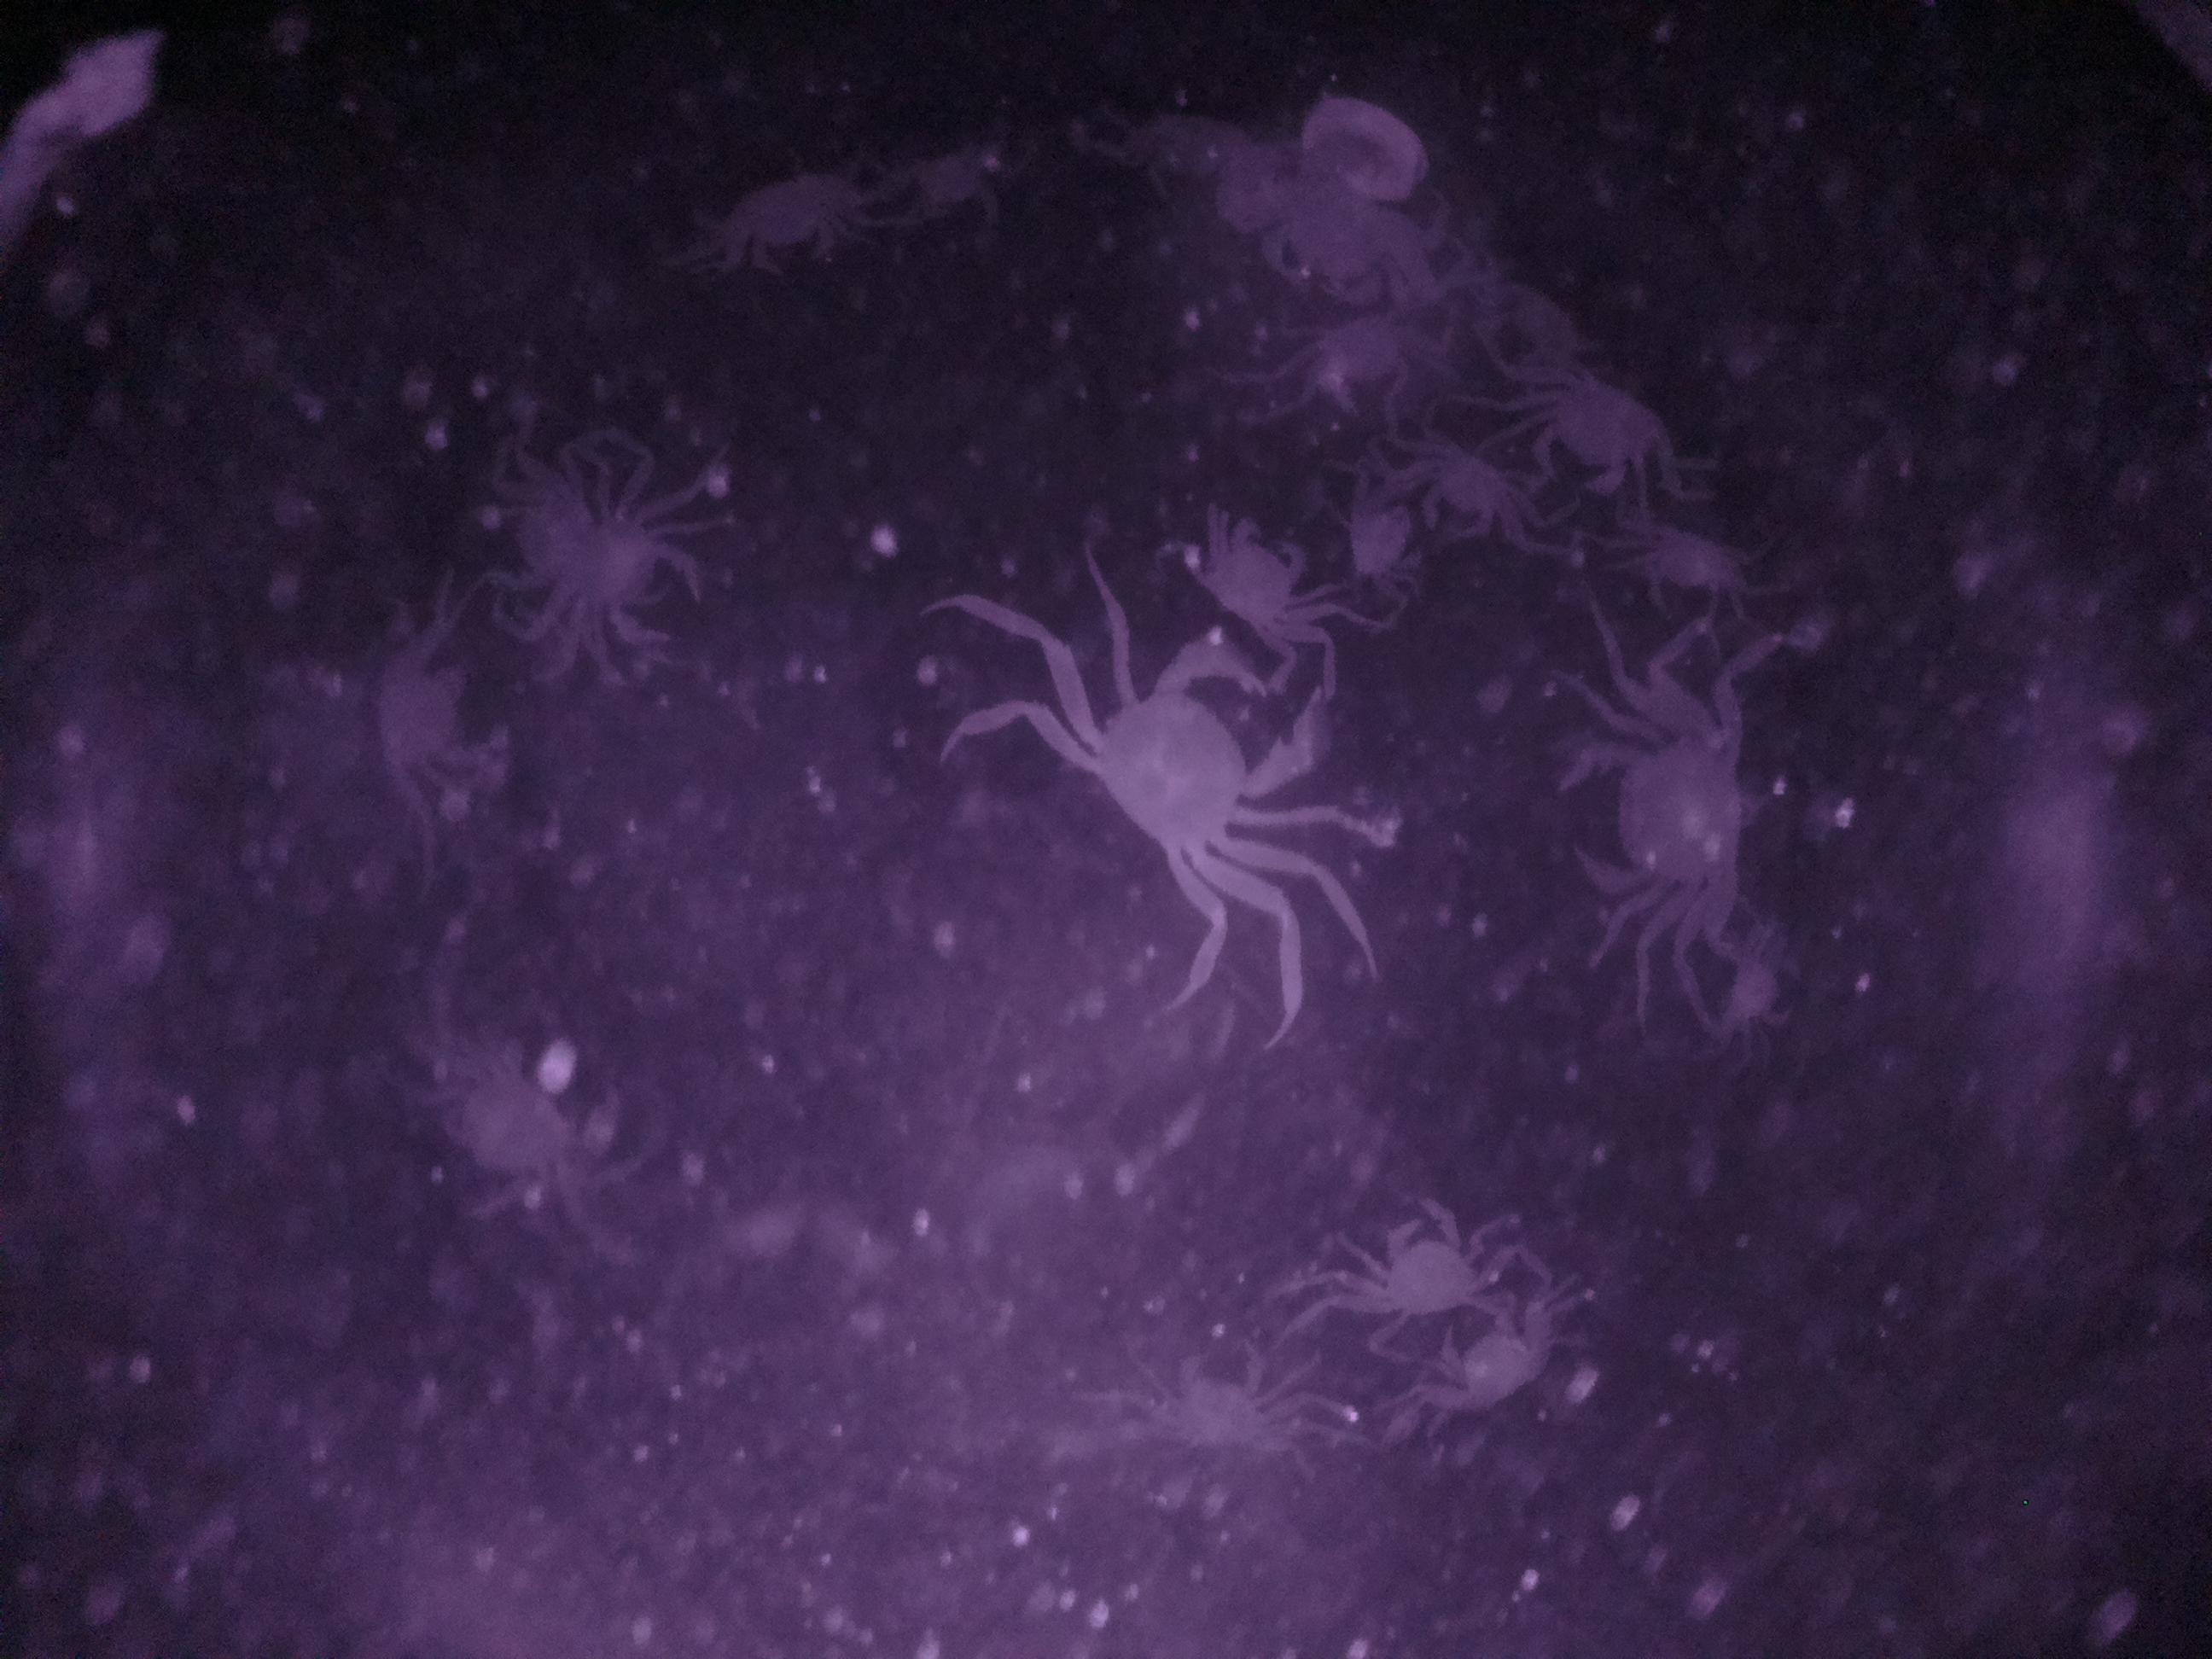Crab: (1021, 610, 1334, 915), (1548, 695, 1782, 953), (556, 500, 726, 664), (1498, 359, 1684, 497), (1345, 1194, 1514, 1342), (1186, 505, 1343, 648), (707, 159, 874, 286), (1388, 432, 1529, 552)
